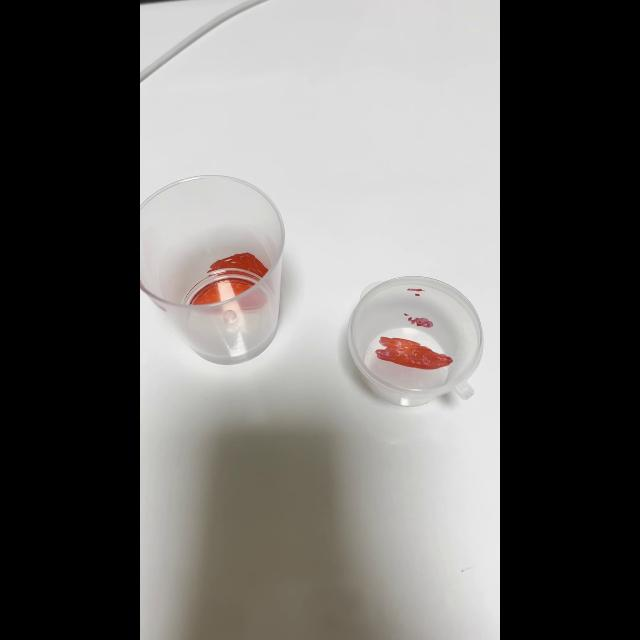dirty: (140, 176, 292, 367), (345, 275, 481, 405)
